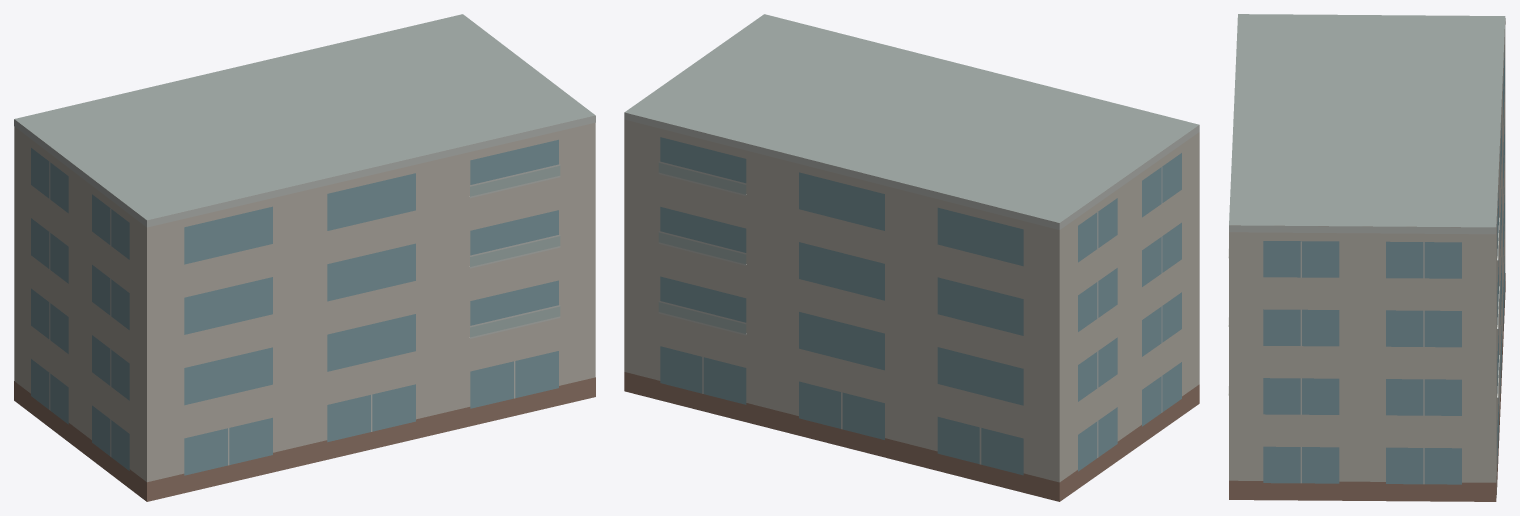
The model's file is survey-upis-32718315.glb.
3 renders of one model, left to right at view 1: azimuth 30°, elevation 25°; view 2: azimuth 150°, elevation 25°; view 3: azimuth 270°, elevation 25°, orthographic. The views are drawn at different scales.
Visible parts, largest first — view 1: survey-upis-32718315.tmp; view 2: survey-upis-32718315.tmp; view 3: survey-upis-32718315.tmp.
Part boxes in pixels (box(x1,y1,x2,y2)): survey-upis-32718315.tmp: box(14, 14, 595, 501); survey-upis-32718315.tmp: box(624, 14, 1199, 501); survey-upis-32718315.tmp: box(1228, 14, 1505, 501).
Size of the model in its own units: 16.01 by 9.6 by 8.79.
